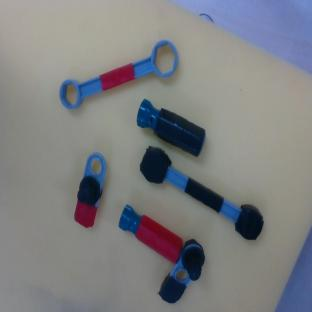part_1_bad: (153, 236, 215, 309)
part_1_good: (69, 151, 112, 229)
part_2_bad: (131, 98, 210, 157)
part_2_good: (113, 203, 189, 264)
part_3_bad: (133, 142, 270, 245)
part_3_good: (53, 37, 183, 112)
